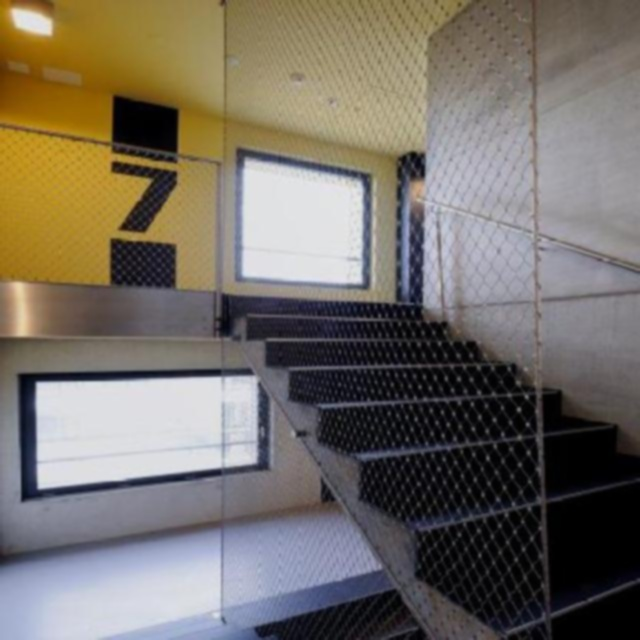stair: (216, 227, 639, 639)
